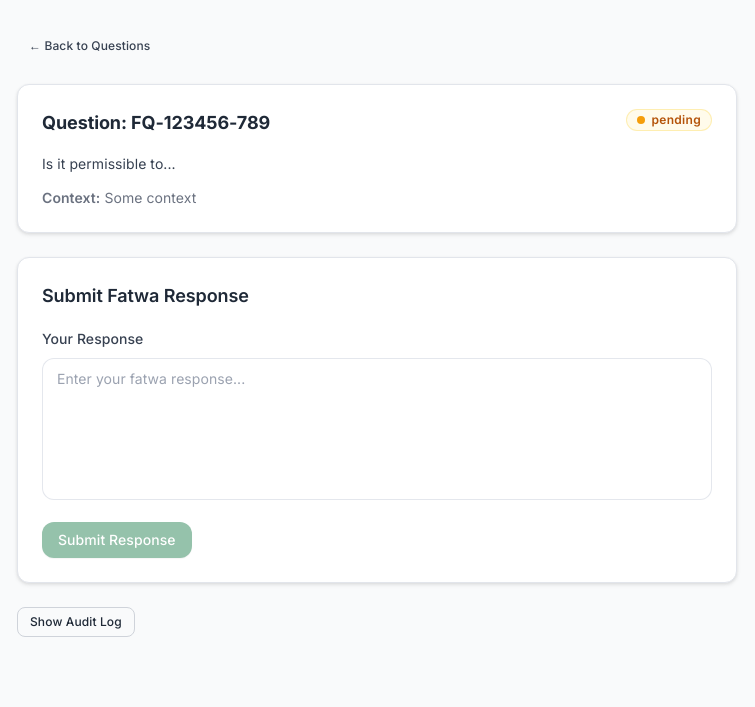
Test case: FatwaResponseEditor › displays audit log when toggled
The image size is (755, 707).
Click the button "Show Audit Log" at point(76, 622), box [17,607,135,637]
(page scrolled)
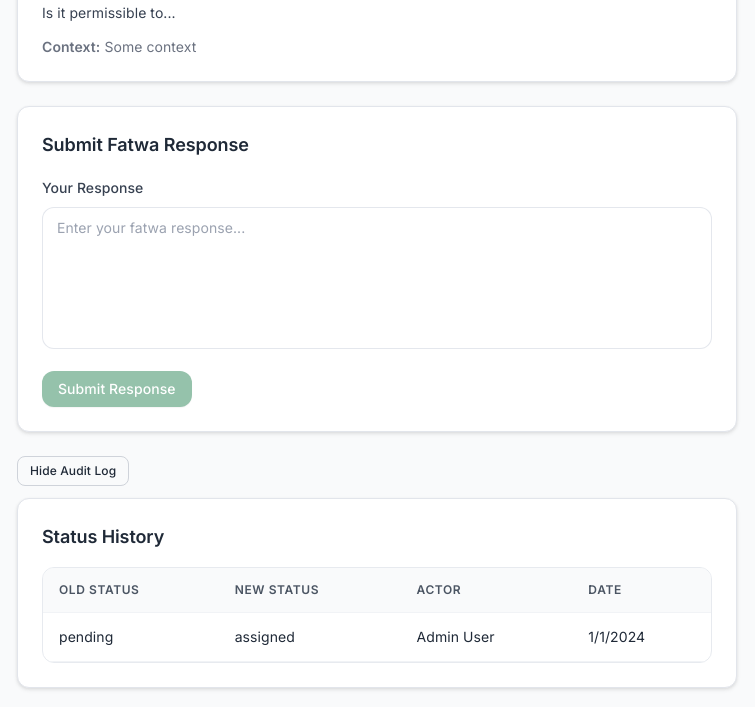
Check: the heading "Status History" is shown, box [42,526,164,547]
Check: the text "Admin User" is shown, box [400,612,572,661]
